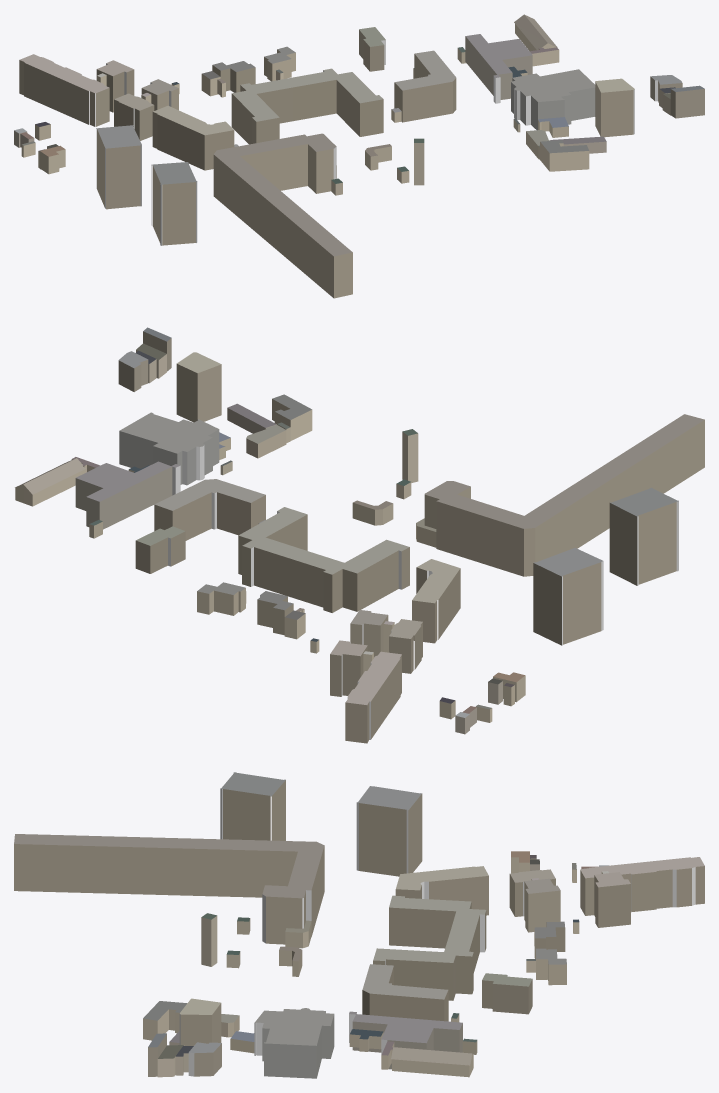
The picture shows the model from 3 angles, top to bottom: view 1: azimuth 30°, elevation 25°; view 2: azimuth 150°, elevation 25°; view 3: azimuth 270°, elevation 25°; orthographic projection. The views are drawn at different scales.
Parts seen in each view (by area): view 1: tuile; view 2: tuile; view 3: tuile.
Part boxes in pixels (<box>): tuile: <box>14,14,704,298</box>; tuile: <box>15,327,704,743</box>; tuile: <box>14,772,704,1078</box>.
Size of the model in its own units: 252 by 43.17 by 266.
